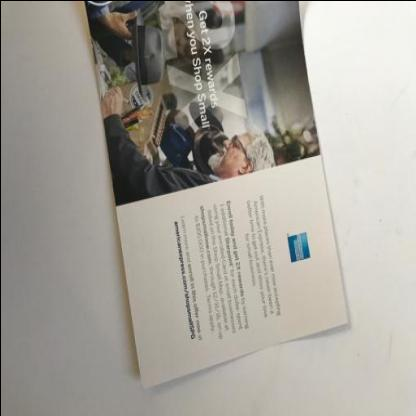Paper: (85, 0, 347, 387)
